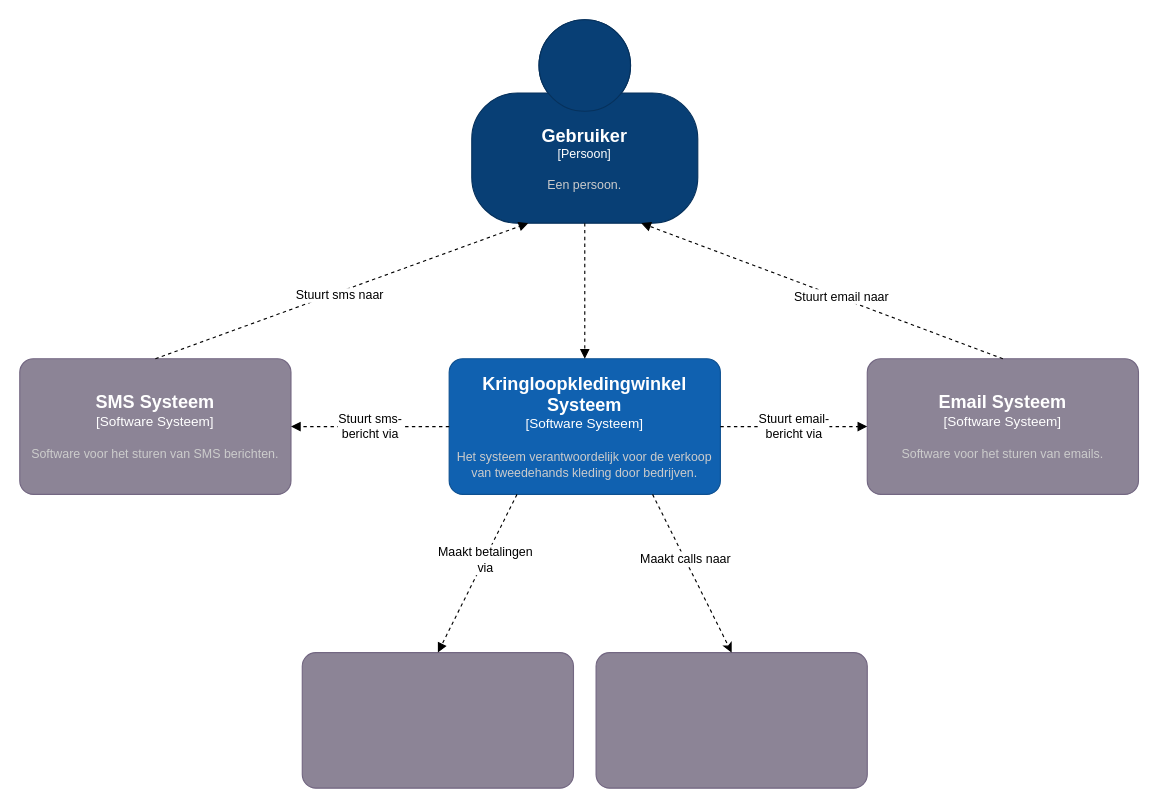
Some shapes in this 1158 by 808 pixel diagram are drawn without their labels. Each missing label, with the centre of its shape:
"Betaalsysteem [Software Systeem] Regelt betalingen." goes at (437,719).
"KVK API [Software Systeem] Bevat informatie over geregistreerde bedrijven." goes at (731,719).
